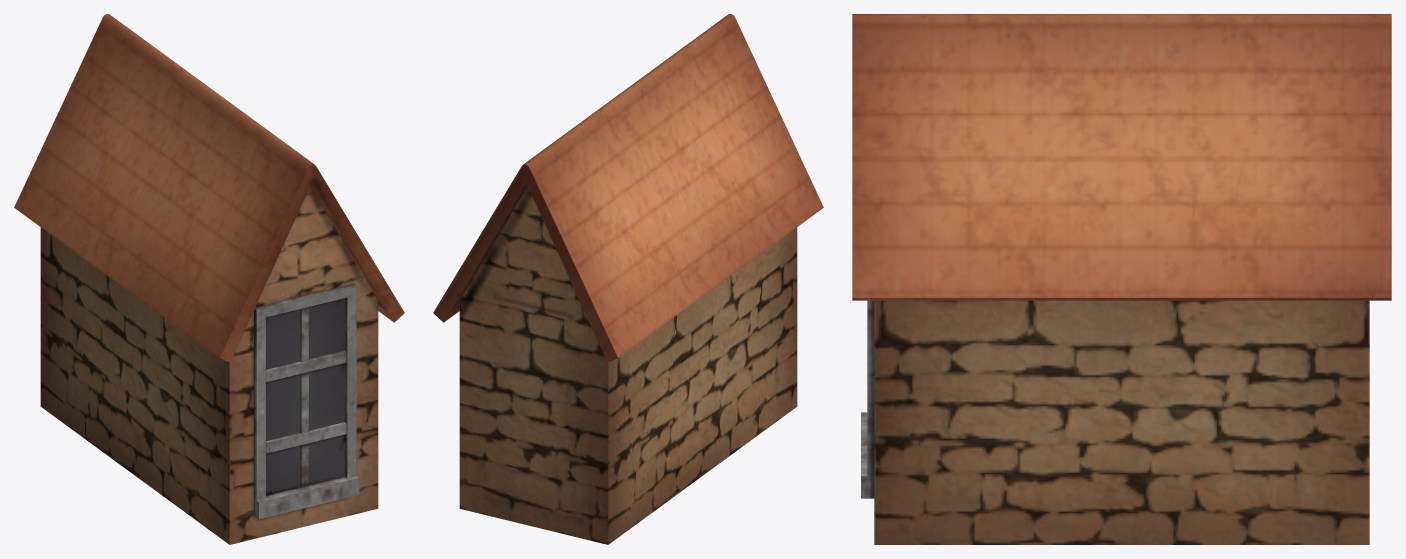
File: sb_obj_outdoor001_Castle01_hut01.fbx
3 views of the same model, side by side, from view 1: azimuth 30°, elevation 25°; view 2: azimuth 150°, elevation 25°; view 3: azimuth 270°, elevation 25° (orthographic). The views are drawn at different scales.
Visible parts, largest first — view 1: sb_obj_outdoor001_Castle01_hut01; view 2: sb_obj_outdoor001_Castle01_hut01; view 3: sb_obj_outdoor001_Castle01_hut01.
Boxes of the visible parts, left/top/right/bottom form: sb_obj_outdoor001_Castle01_hut01: left=14, top=14, right=404, bottom=544; sb_obj_outdoor001_Castle01_hut01: left=433, top=14, right=823, bottom=544; sb_obj_outdoor001_Castle01_hut01: left=852, top=14, right=1391, bottom=544.
Bounding box in the file's own units: 1.09 × 2.07 × 2.09.
